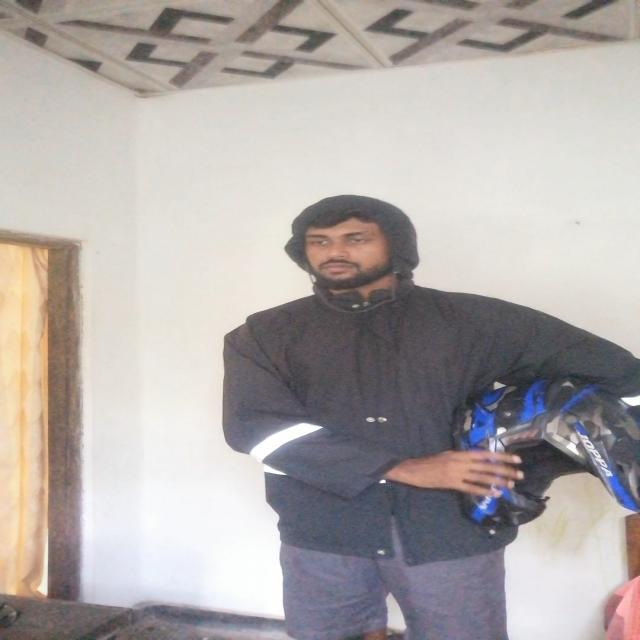Jacket_Wearer: (209, 295, 640, 553)
Person: (206, 191, 640, 640)
